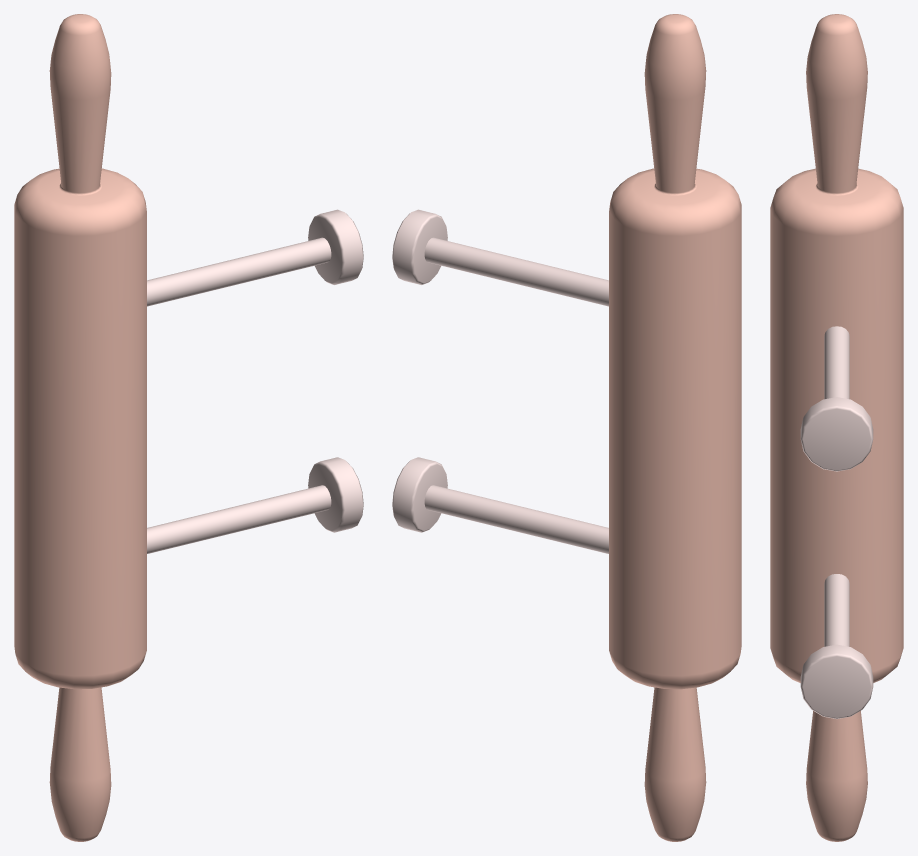
The model's file is Store_3_Sign_Rolling_Pin_1.glb.
The picture shows the model from 3 angles, left to right: view 1: azimuth 30°, elevation 25°; view 2: azimuth 150°, elevation 25°; view 3: azimuth 270°, elevation 25°; orthographic projection.
Visible parts, largest first — view 1: Store_3_Sign_Rolling_Pin_1; view 2: Store_3_Sign_Rolling_Pin_1; view 3: Store_3_Sign_Rolling_Pin_1.
Part boxes in pixels (box(x1,y1,x2,y2)): Store_3_Sign_Rolling_Pin_1: box(14, 14, 363, 841); Store_3_Sign_Rolling_Pin_1: box(392, 14, 741, 841); Store_3_Sign_Rolling_Pin_1: box(770, 14, 903, 841).
Bounding box in the file's own units: 0.9731 × 2.35 × 0.3469.
Materials: 1 (1 with a texture image).
